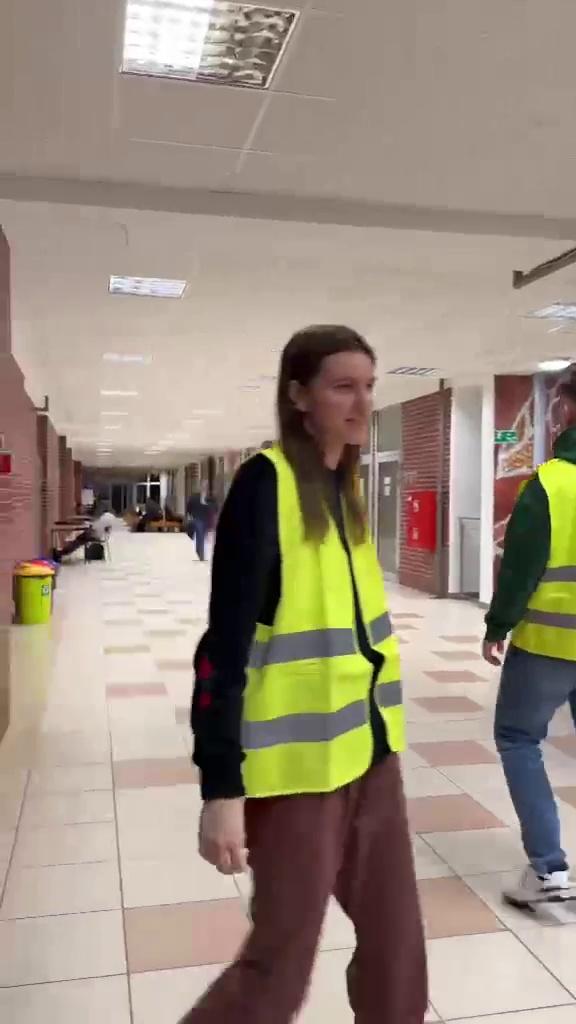vest: (204, 310, 433, 1021), (491, 367, 576, 908)
